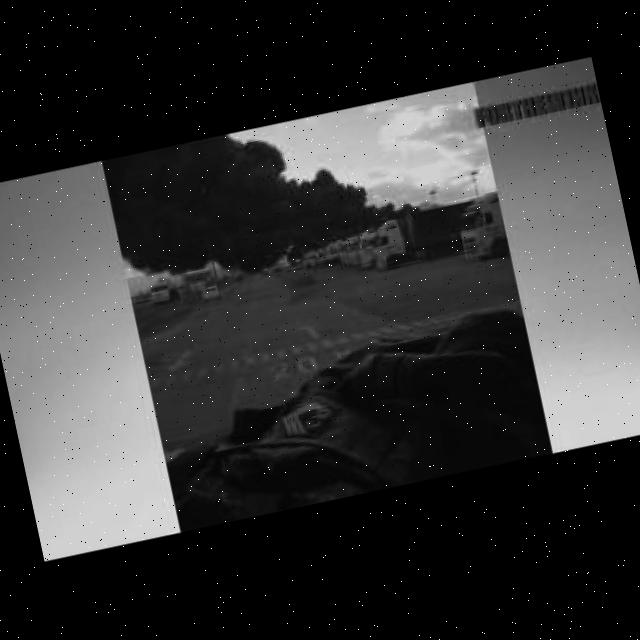fire: (102, 95, 435, 280)
